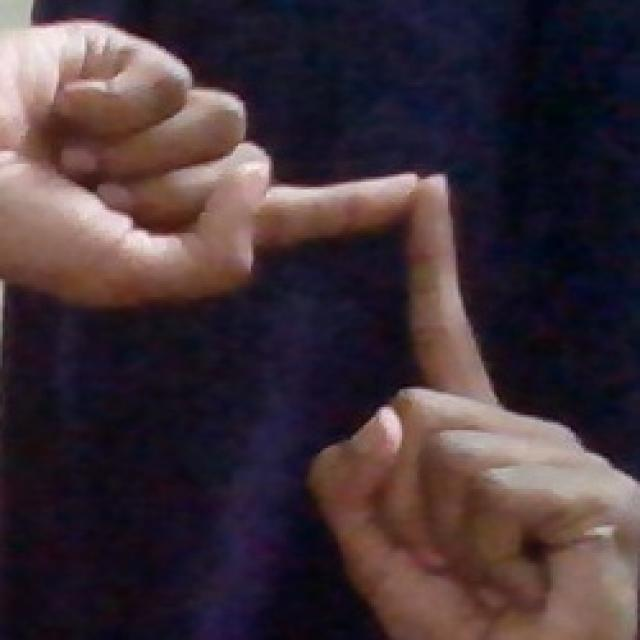Alphabet-E: (0, 20, 416, 307)
